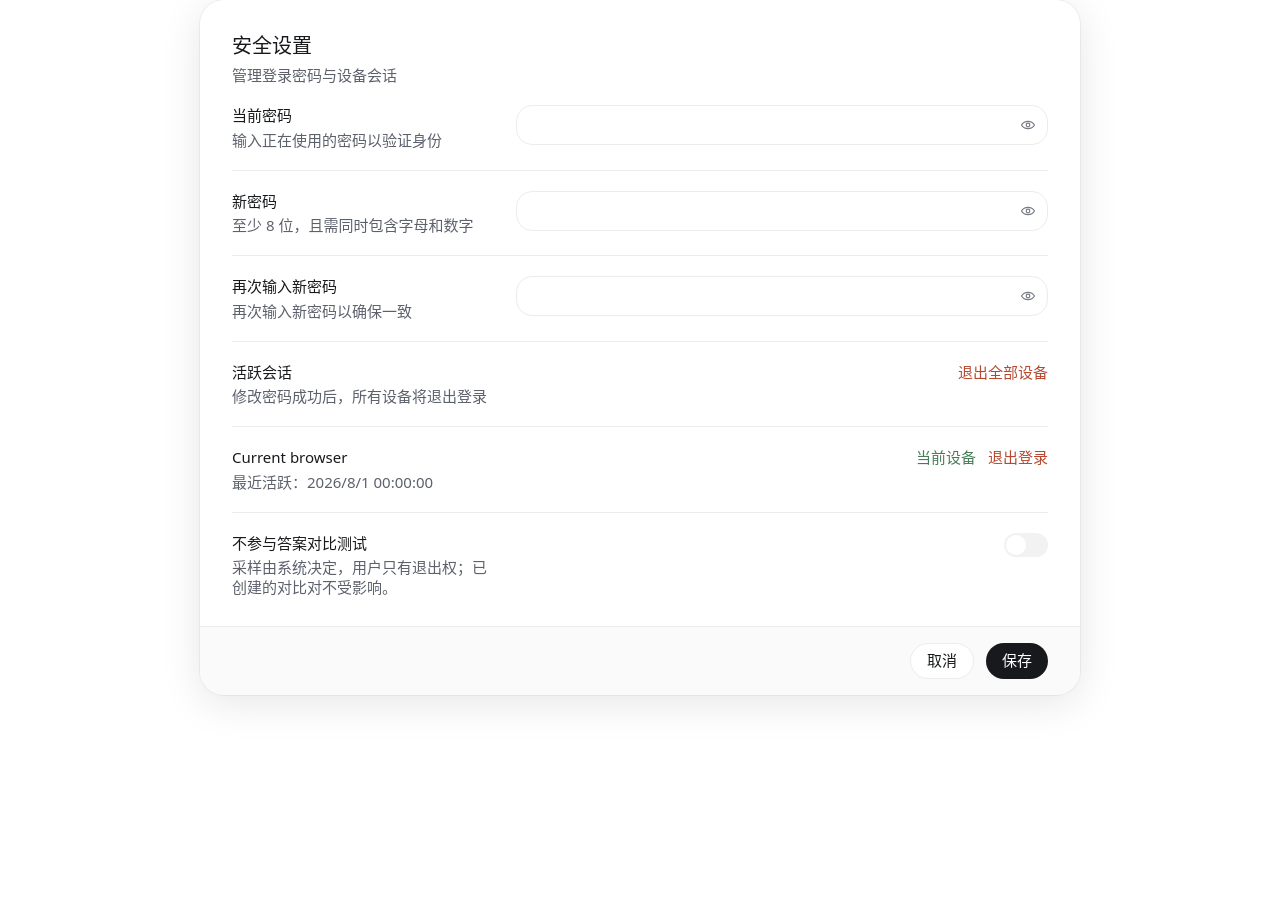
Scenario: SecurityModule › cancels the logout-all ConfirmDialog with Esc without revoking anything (A38 Esc=取消)
The image size is (1280, 900).
Expected: the text "Current browser" is shown, [232,447,347,467]
Click the button "退出全部设备" at (1003, 372), box [958,362,1048,382]
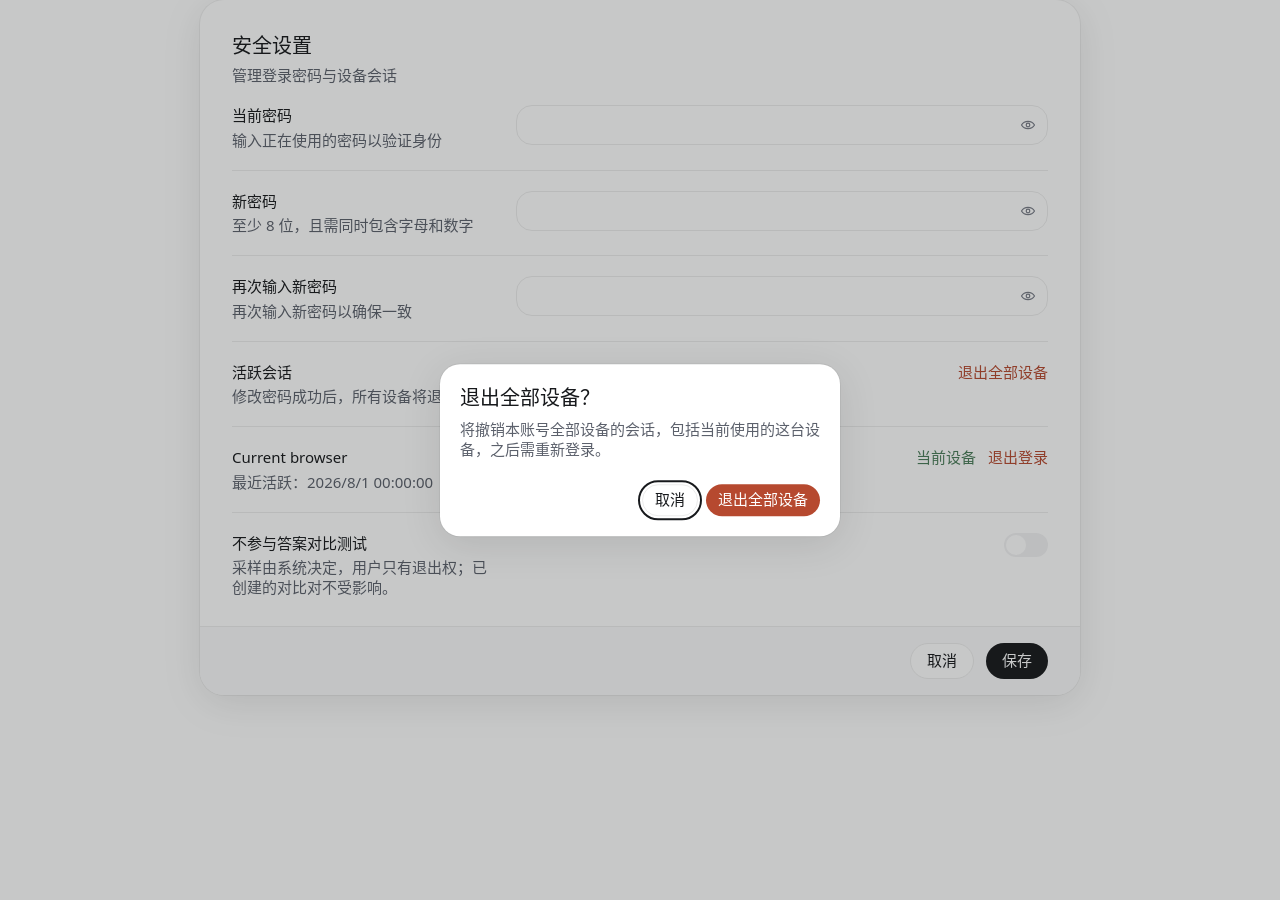
Expected: the dialog "退出全部设备？" is shown, [440,364,840,536]
Press Escape
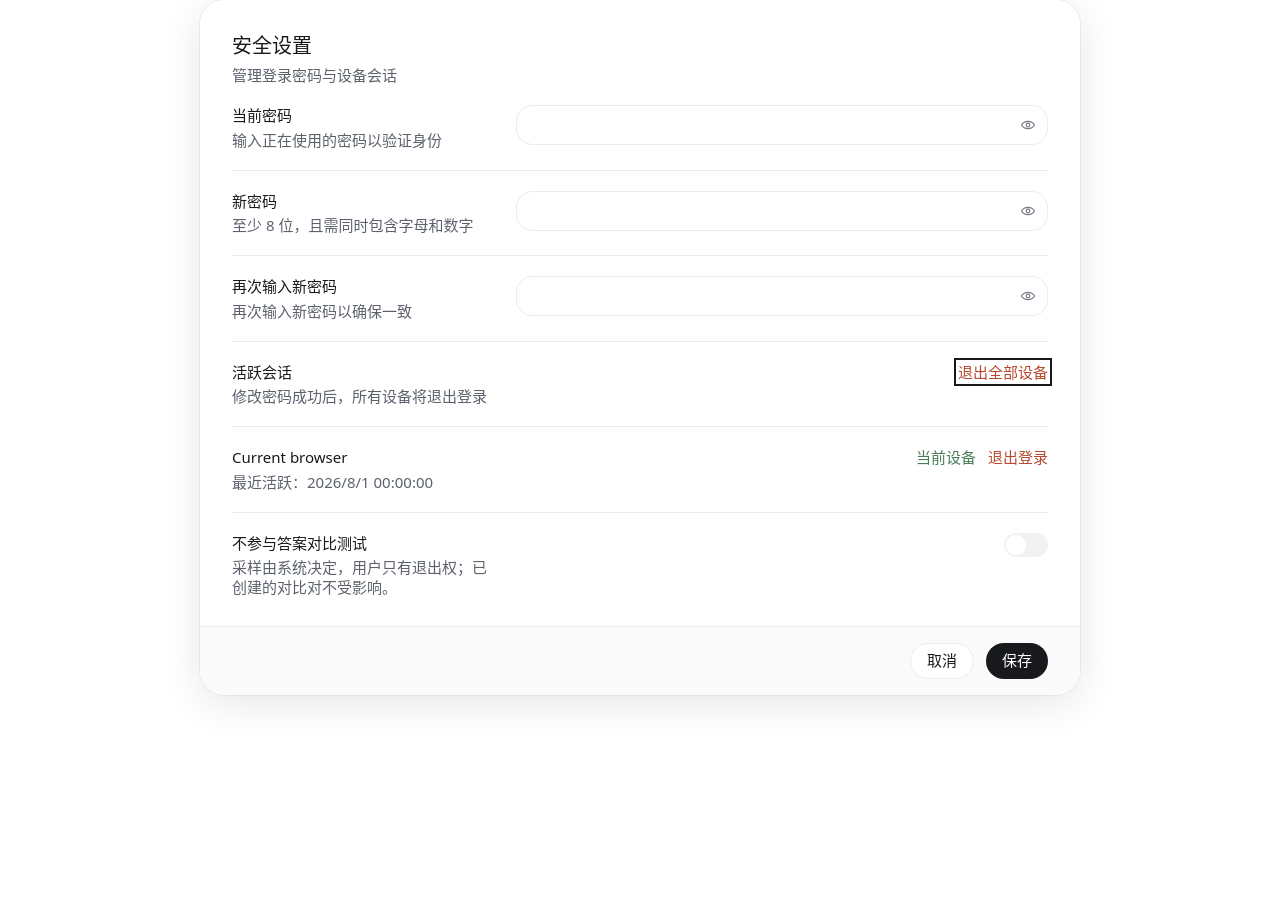
Expected: the dialog is gone
